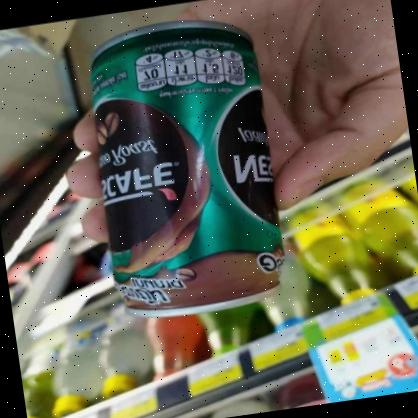can: (70, 12, 296, 324)
